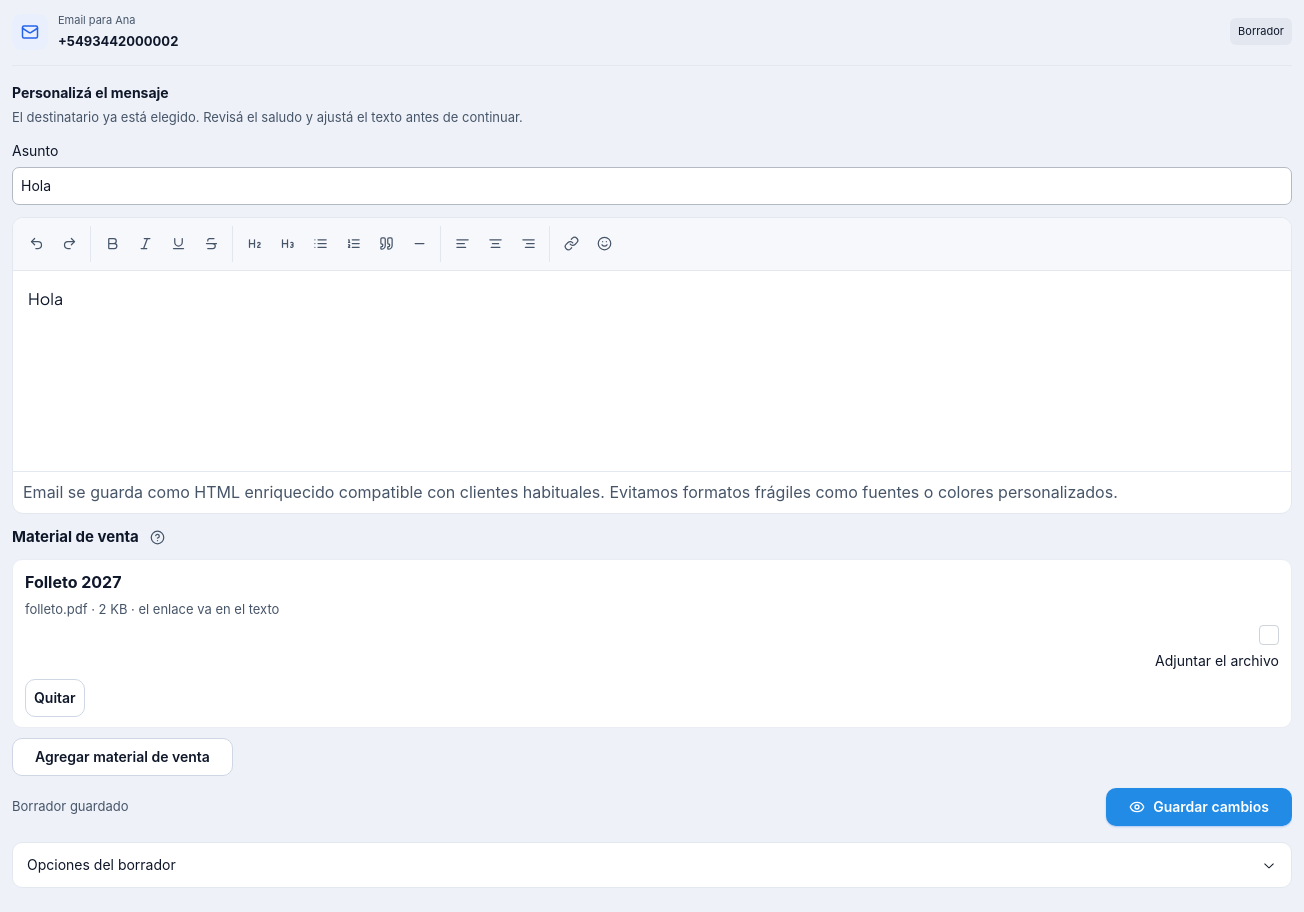
Test case: MessageComposer sales material (spec 89 §8.2) › blocks material changes while the subject or text has unsaved edits
Replace the text in the field named "Asunto final" with "Hola de nuevo": [652, 186] box [12,167,1292,205]
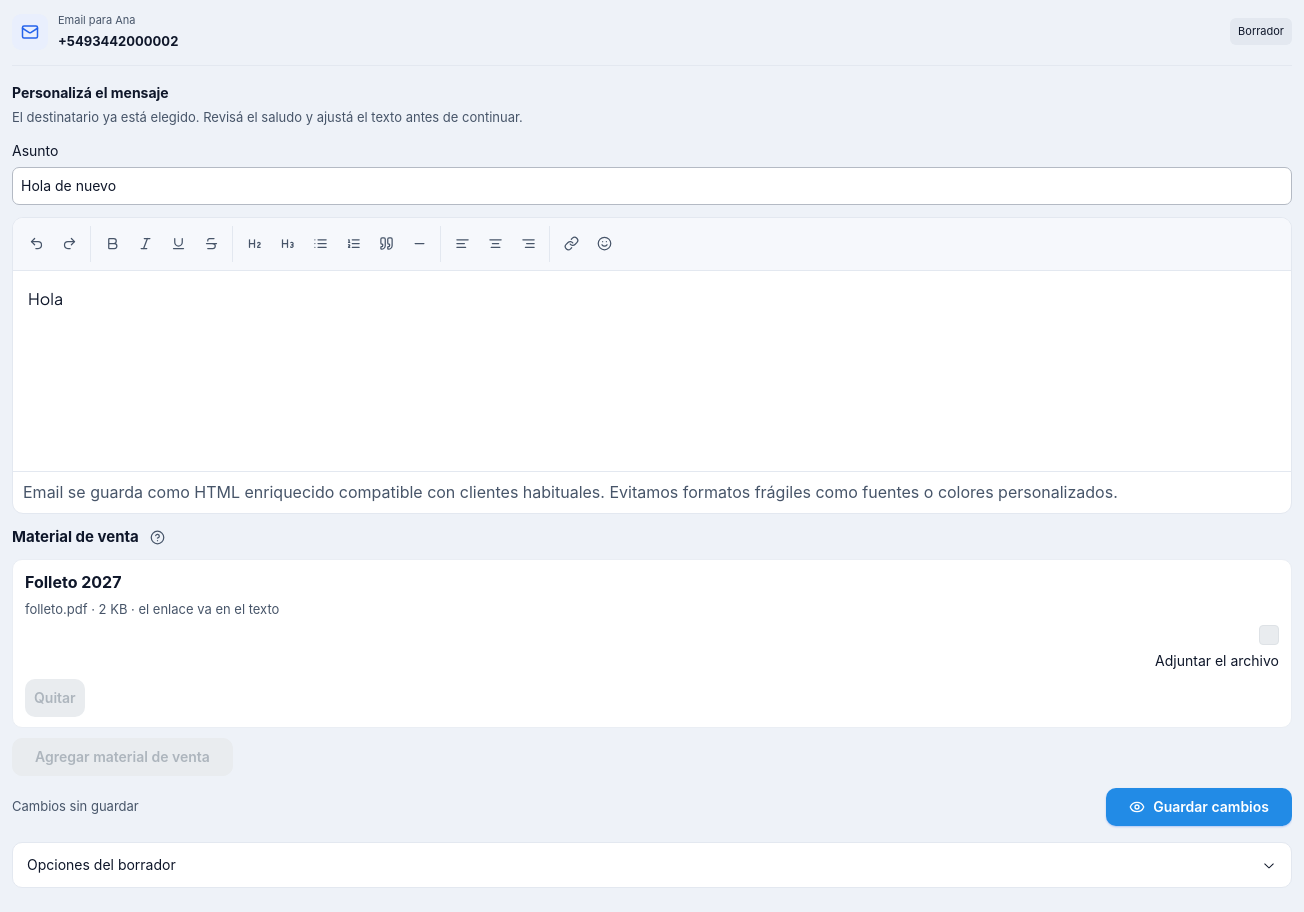
Now the button "Agregar material de venta" is disabled, box [12,738,233,776]
Now the button "Quitar" is disabled, box [25,679,85,717]
